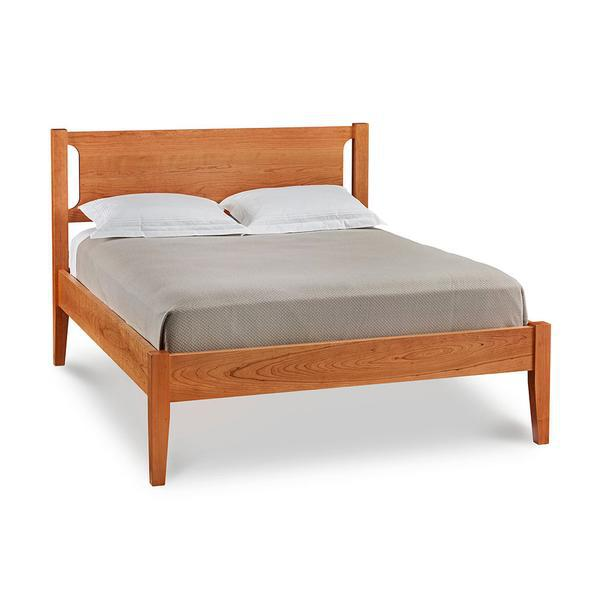bed: (40, 122, 577, 492)
